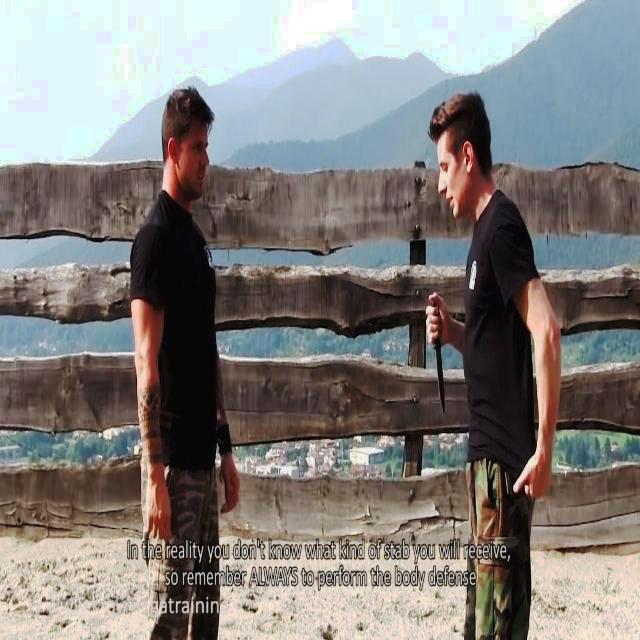Knife: (418, 287, 465, 423)
